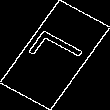L_SE: (21, 29, 89, 81)
